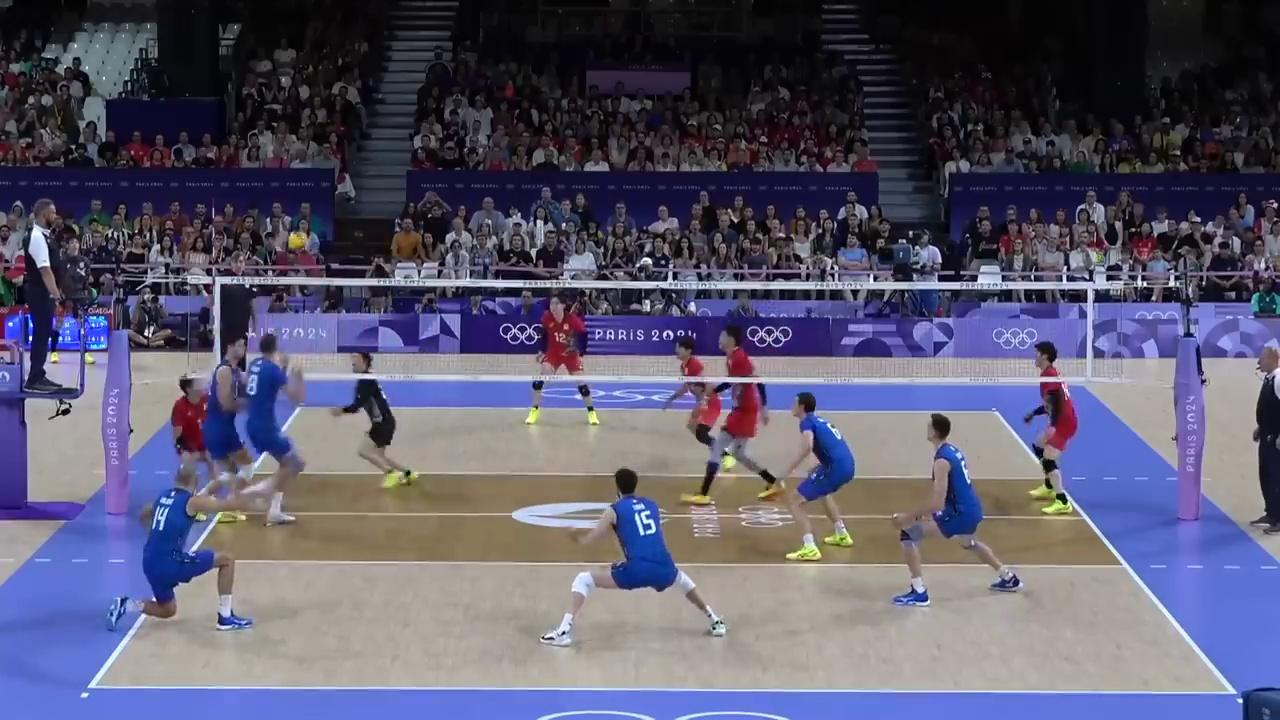ball: (287, 231, 307, 250)
